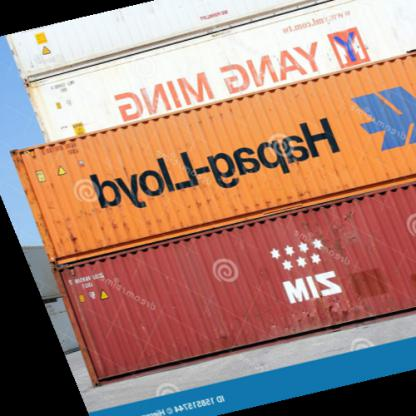Damage: (38, 225, 58, 264)
